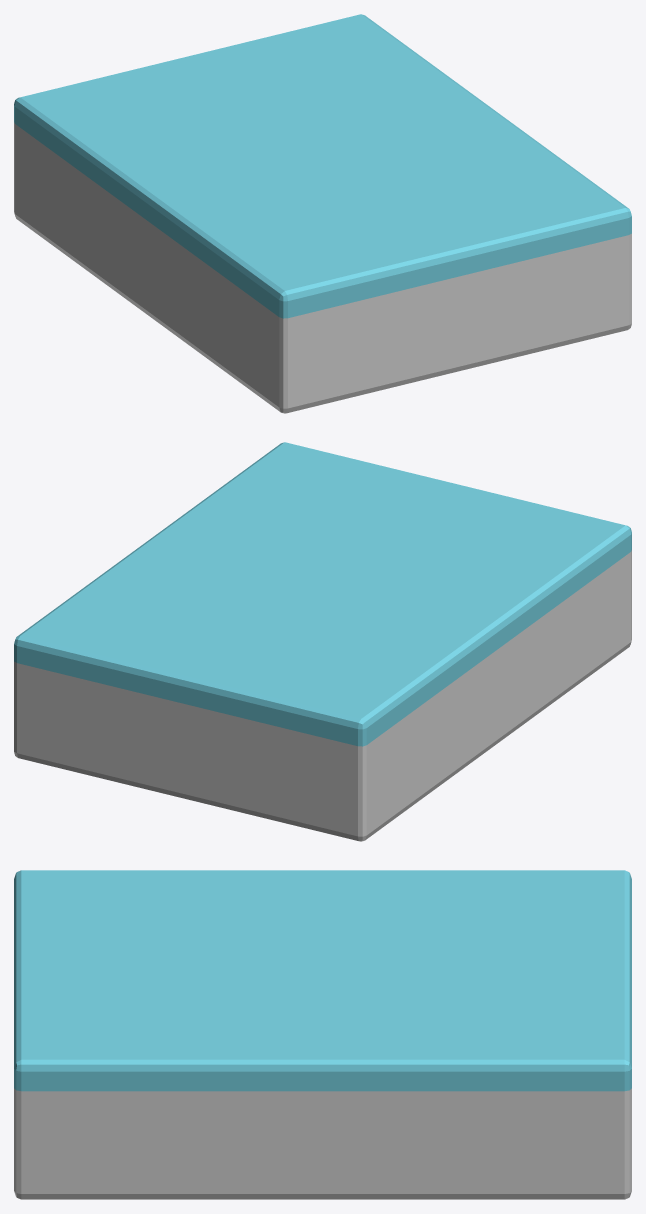
The model's file is Track Obstacles.fbx.
3 renders of one model, top to bottom at view 1: azimuth 30°, elevation 25°; view 2: azimuth 150°, elevation 25°; view 3: azimuth 270°, elevation 25°, orthographic. The views are drawn at different scales.
Parts seen in each view (by area): view 1: Track Same As Matt; view 2: Track Same As Matt; view 3: Track Same As Matt.
Boxes of the visible parts, x1=… form: Track Same As Matt: x1=14, y1=14, x2=631, y2=413; Track Same As Matt: x1=14, y1=442, x2=631, y2=841; Track Same As Matt: x1=14, y1=870, x2=631, y2=1199.
Size of the model in its own units: 3 by 1 by 4.
